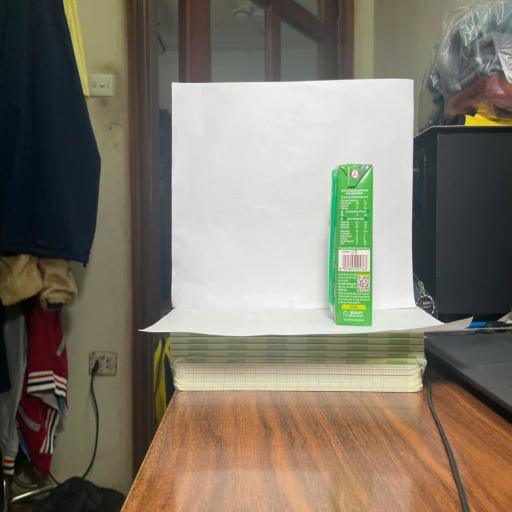milo: (330, 165, 373, 325)
